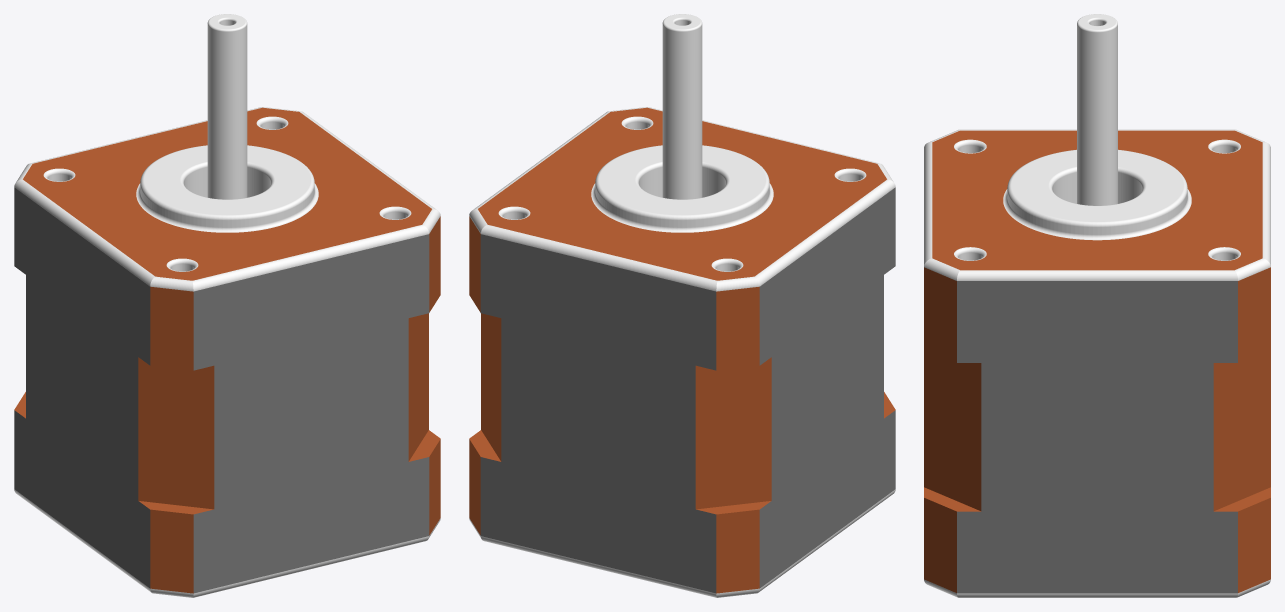
File: nema17.glb
3 views of the same model, side by side, from view 1: azimuth 30°, elevation 25°; view 2: azimuth 150°, elevation 25°; view 3: azimuth 270°, elevation 25° (orthographic). The views are drawn at different scales.
Visible parts, largest first — view 1: Node5, Node3, Node4, Node2, Node6, Node1; view 2: Node5, Node3, Node4, Node2, Node6, Node1; view 3: Node5, Node3, Node4, Node2, Node6, Node1.
Boxes of the visible parts, x1,y1,x2,y2 form: Node5: (14,187,429,593); Node3: (23,107,431,280); Node4: (14,216,440,593); Node2: (14,107,440,597); Node6: (207,25,247,199); Node1: (43,14,411,271); Node5: (480,187,895,593); Node3: (478,107,886,280); Node4: (469,216,895,593); Node2: (469,107,895,597); Node6: (662,25,702,199); Node1: (498,14,866,271); Node5: (957,281,1237,593); Node3: (932,130,1262,270); Node4: (924,267,1270,592); Node2: (924,129,1270,597); Node6: (1077,25,1117,205); Node1: (954,14,1240,260).
Size of the model in its own units: 42.3 by 68 by 42.3.
